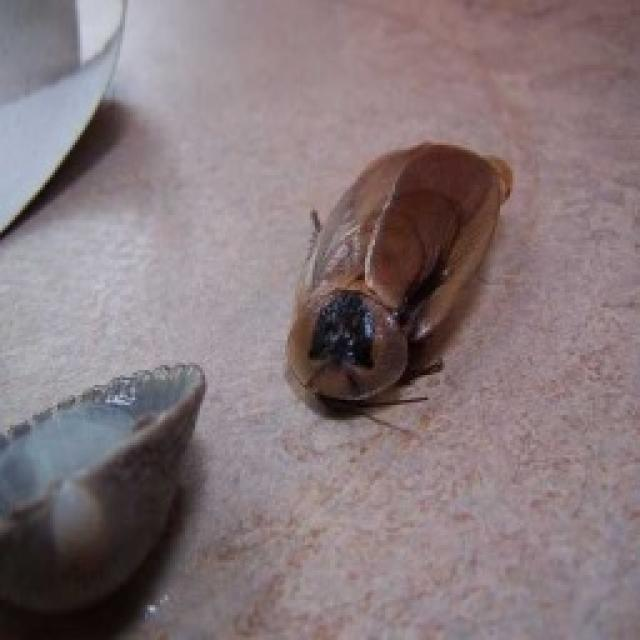cockroach: (279, 135, 518, 426)
